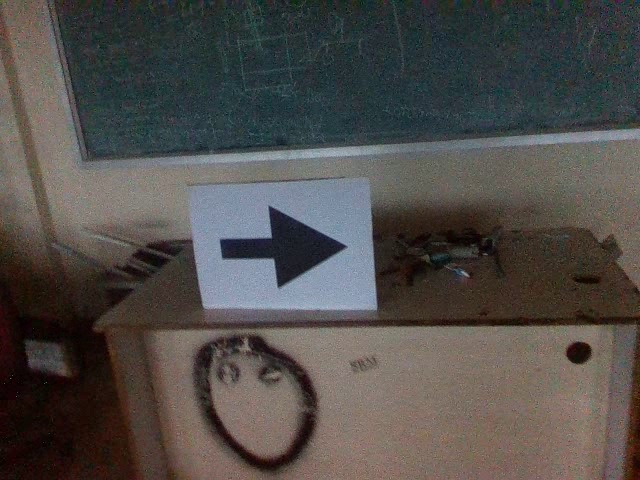Right: (213, 199, 350, 297)
